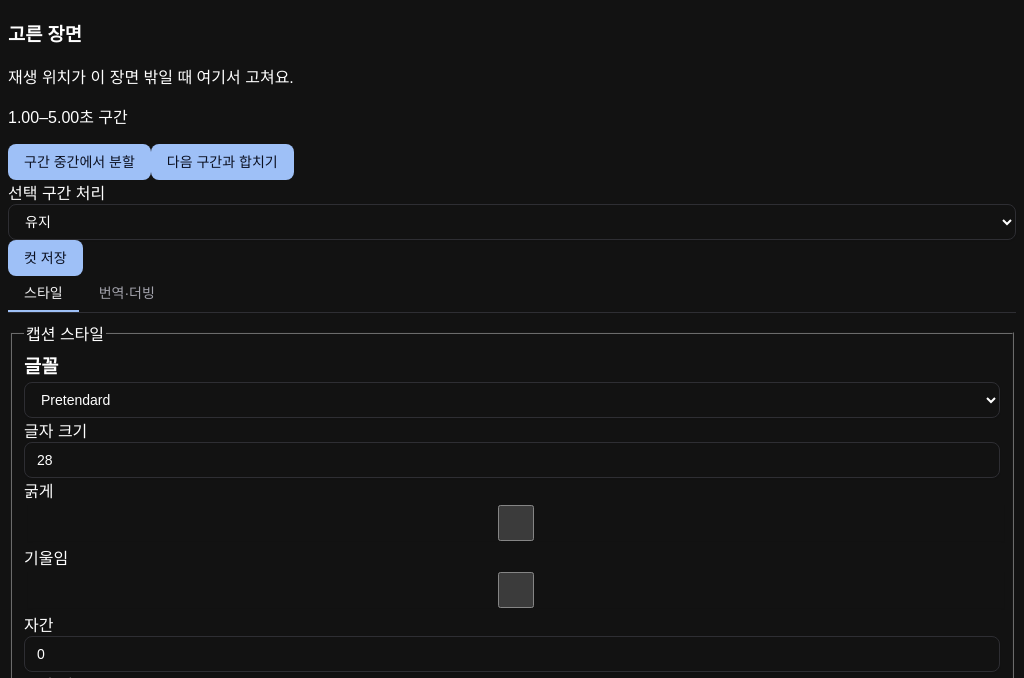
Test: InspectorControls › 자막 칸도 스타일·번역 두 탭으로 나뉜다 -- 다섯 뭉치를 한 줄로 쌓지 않는다
The width and height of the screenshot is (1024, 678).
Expected: the heading "글꼴" is shown, [24, 356, 58, 377]
Expected: the text "캡션 언어" is not shown
Click the tab "번역·더빙" at (127, 294), box [83, 276, 171, 312]
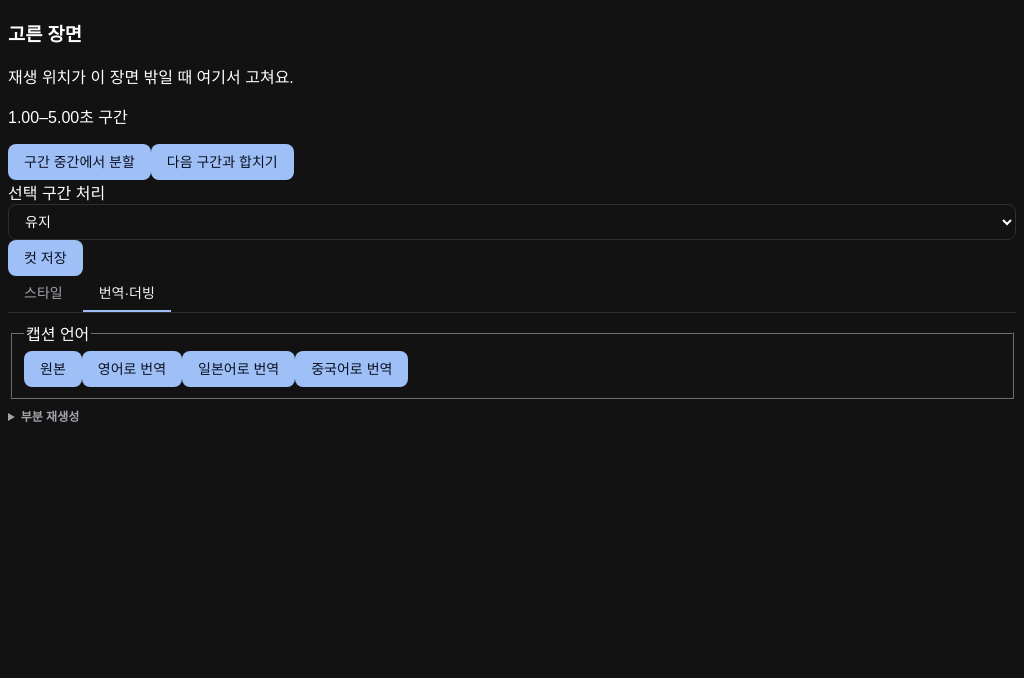
Expected: the text "캡션 언어" is shown, [24, 321, 91, 345]
Expected: the heading "글꼴" is gone
Click the tab "스타일" at (43, 294), box [8, 276, 79, 312]
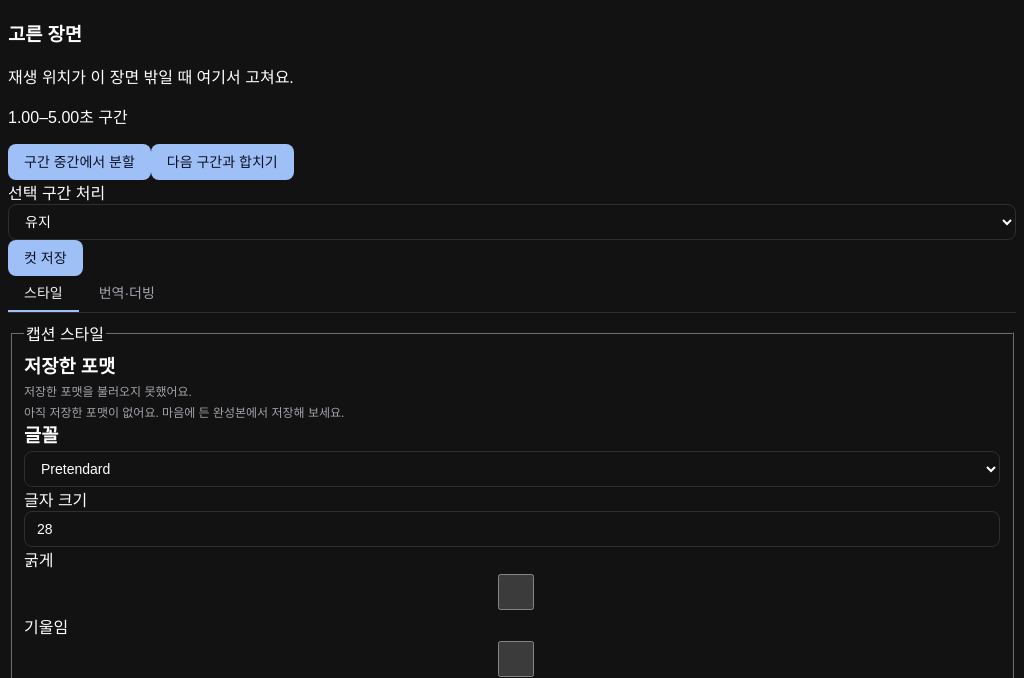
Expected: the heading "글꼴" is shown, [24, 425, 58, 446]
Expected: the text "캡션 언어" is gone
